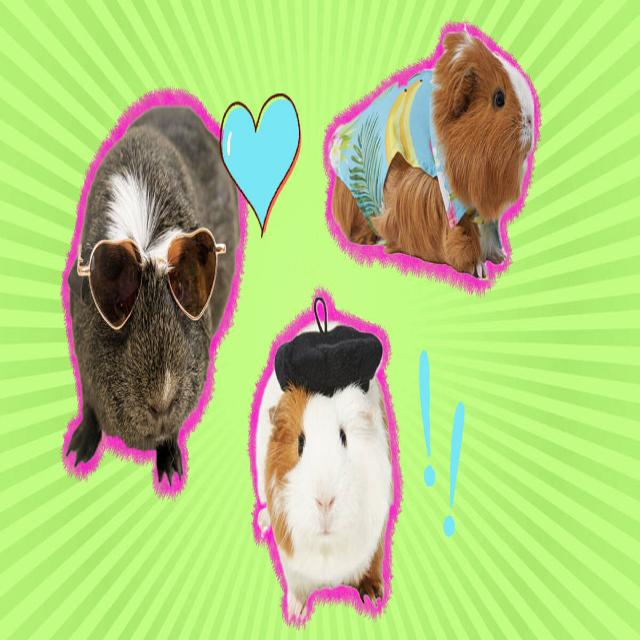guinea pig: (67, 104, 241, 486), (330, 32, 534, 279), (256, 322, 394, 622)
